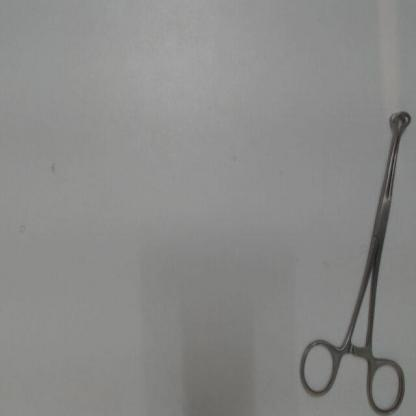Babcock Tissue Forceps: (296, 103, 415, 414)
